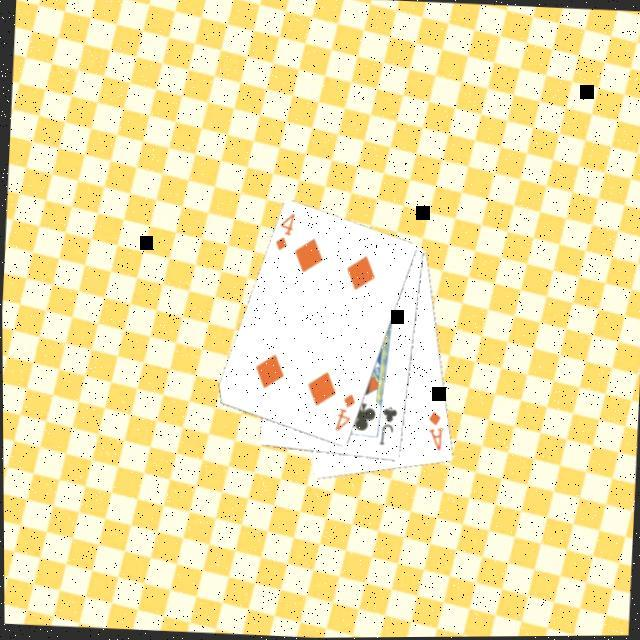4D: (329, 389, 357, 434), (269, 209, 297, 254)
AD: (422, 407, 445, 454)
JC: (375, 404, 400, 449)
